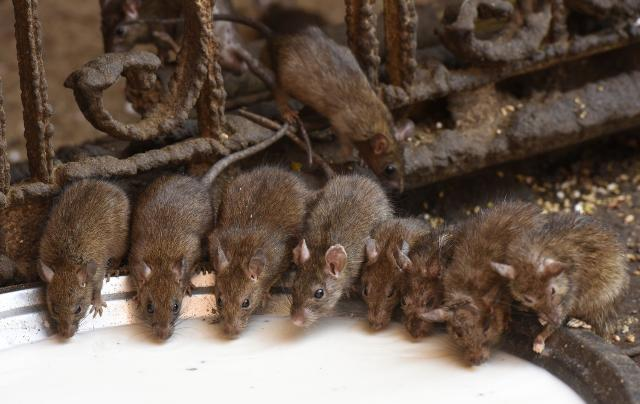rat: (248, 17, 414, 203), (487, 216, 635, 360), (24, 169, 134, 355), (124, 166, 216, 366), (432, 213, 522, 376), (205, 161, 282, 343), (280, 176, 356, 332), (356, 210, 432, 340), (396, 231, 450, 358)
